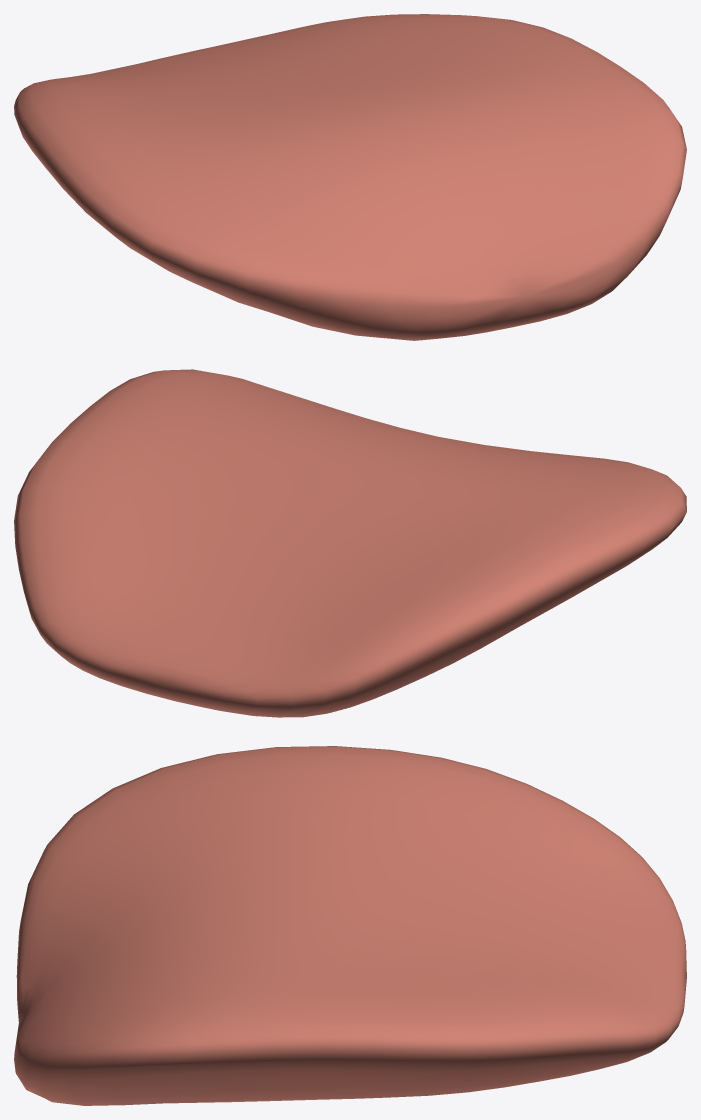
3 renders of one model, top to bottom at view 1: azimuth 30°, elevation 25°; view 2: azimuth 150°, elevation 25°; view 3: azimuth 270°, elevation 25°, orthographic. The views are drawn at different scales.
Parts seen in each view (by area): view 1: 右侧髌下皮下囊; view 2: 右侧髌下皮下囊; view 3: 右侧髌下皮下囊.
Boxes of the visible parts, x1,y1,x2,y2 form: 右侧髌下皮下囊: [14, 14, 686, 340]; 右侧髌下皮下囊: [14, 369, 686, 717]; 右侧髌下皮下囊: [14, 746, 686, 1105].
Size of the model in its own units: 0.0348 by 0.00954 by 0.0341.
